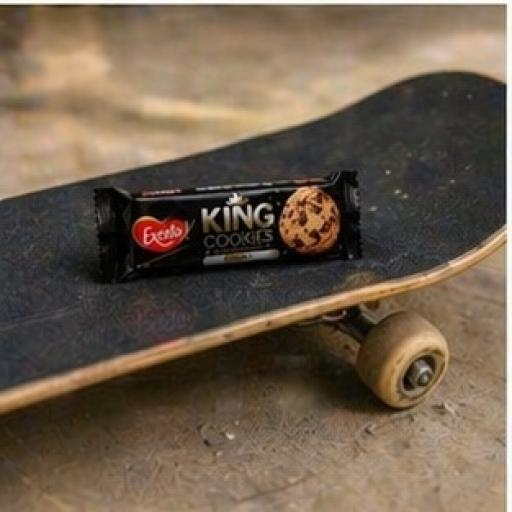king-cooking: (57, 106, 390, 329)
